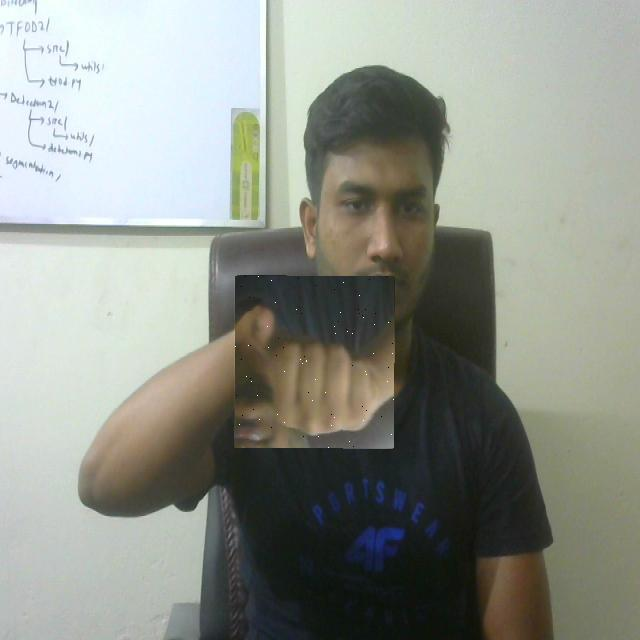Yes: (234, 276, 394, 448)
